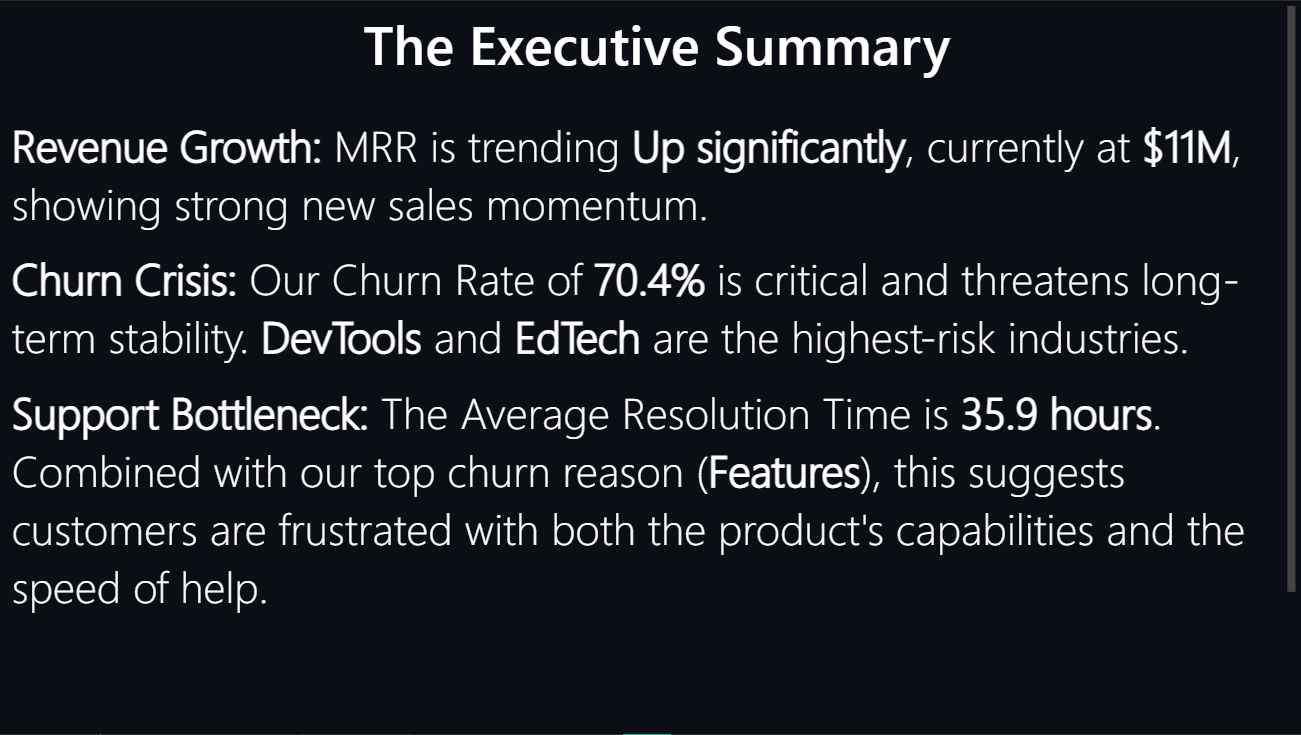

The dashboard page shown, as its layout file describes it:
{"tool":"powerbi","page":{"name":"The Executive Summary","canvas":[1280,720],"ordinal":2},"visuals":[{"type":"textbox","box":[9.8,0,1269.9,720.2],"z":0}]}

Visuals, with their boxes in screenshot pixels (x1, y1, x2, y2), scaled from the page's 1280x720 canvas onto the 1301x735 screenshot:
textbox: locate(10, 0, 1300, 734)
